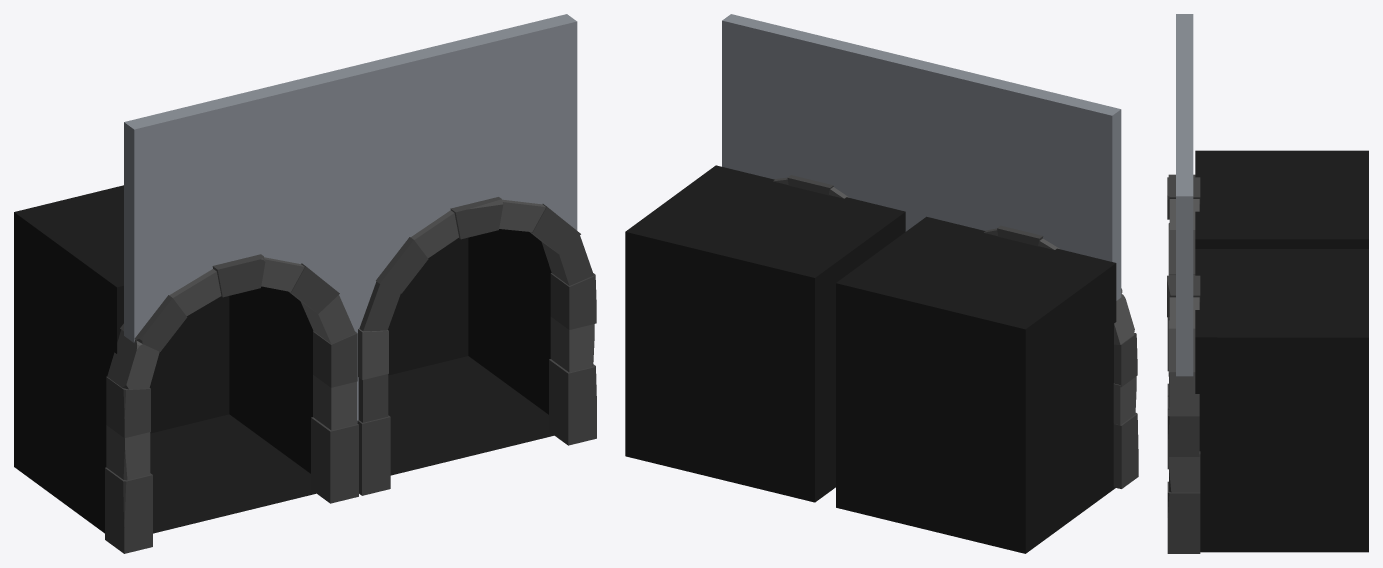
File: Wall3_08.fbx
The picture shows the model from 3 angles, left to right: view 1: azimuth 30°, elevation 25°; view 2: azimuth 150°, elevation 25°; view 3: azimuth 270°, elevation 25°; orthographic projection. The views are drawn at different scales.
Visible parts, largest first — view 1: Wall3_08; view 2: Wall3_08; view 3: Wall3_08.
Part boxes in pixels (<box>): Wall3_08: <box>14,14,596,553</box>; Wall3_08: <box>625,14,1138,553</box>; Wall3_08: <box>1167,14,1368,553</box>.
Bounding box in the file's own units: 1067 × 906 × 468.
